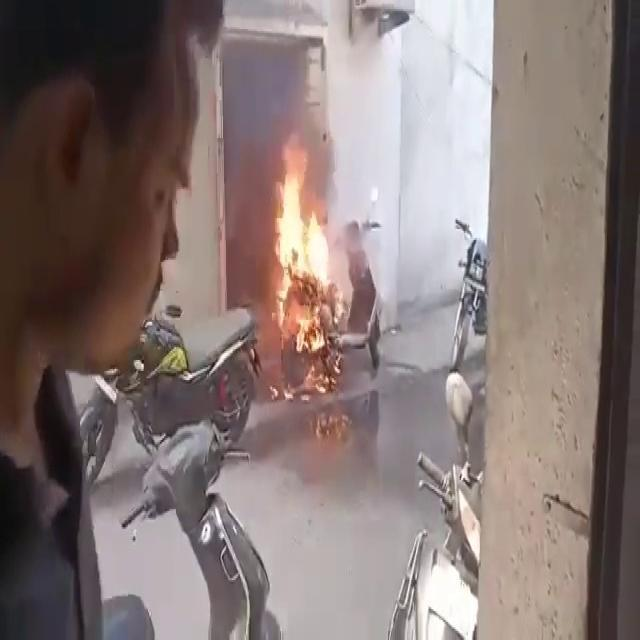Fire: (263, 139, 339, 365)
Smoke: (0, 0, 241, 344)
